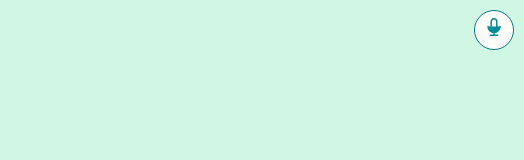
it: TranscriptUserIdea › starts dictation and sends recognized text to the input
This screenshot has width=524, height=160.
Click the button "Dictar idea": {"x": 494, "y": 30} [474,10,514,50]
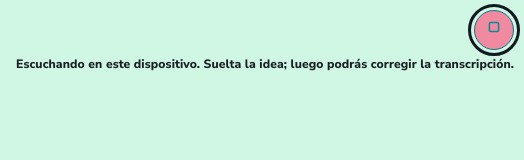
expect the message shows "Escuchando": met, box [16,56,514,72]
